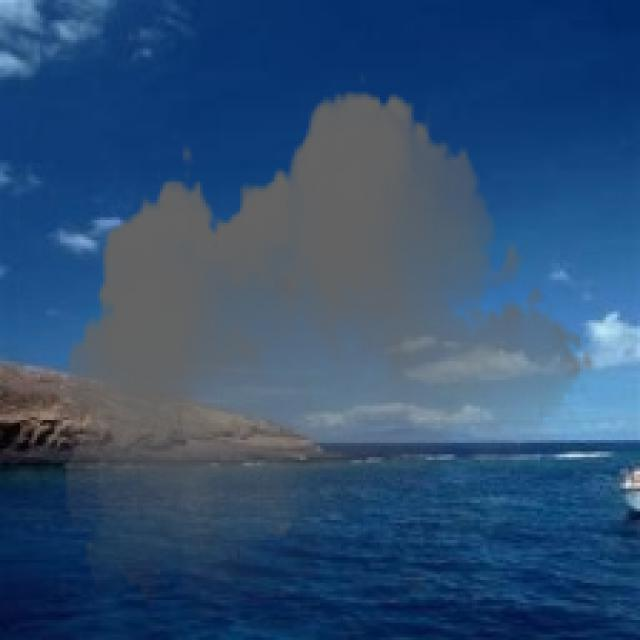smoke: (54, 71, 597, 623)
